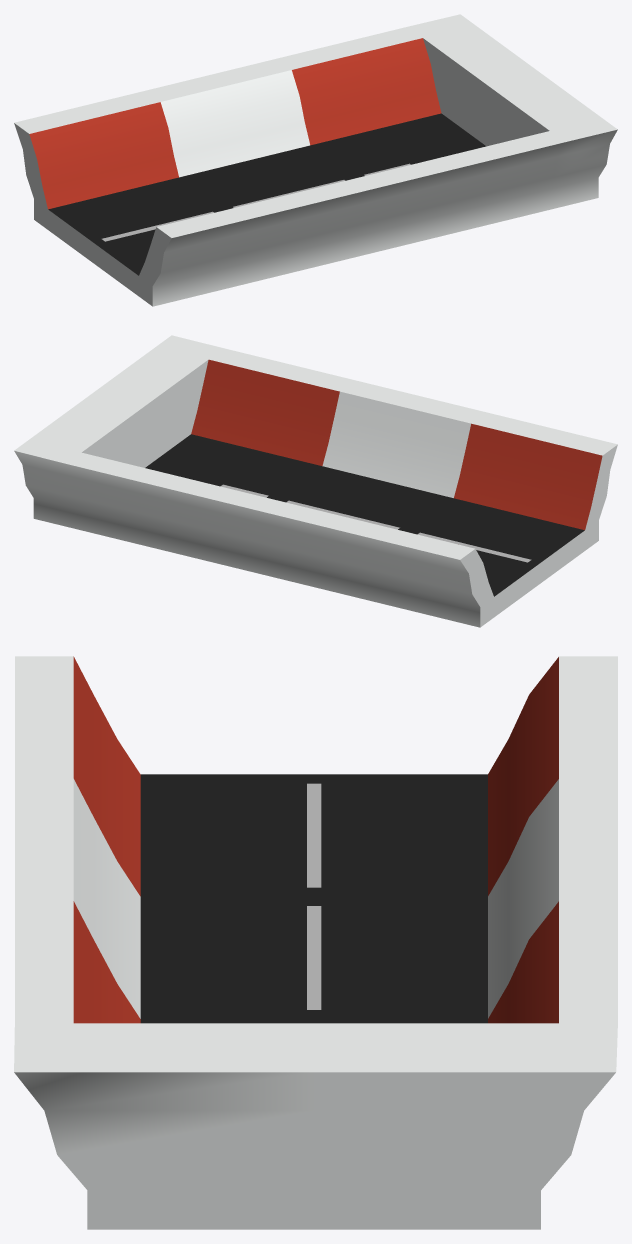
Rendered from cuoi duong red.fbx.
3 renders of one model, top to bottom at view 1: azimuth 30°, elevation 25°; view 2: azimuth 150°, elevation 25°; view 3: azimuth 270°, elevation 25°, orthographic. The views are drawn at different scales.
Visible parts, largest first — view 1: cuoi_duong; view 2: cuoi_duong; view 3: cuoi_duong.
Boxes of the visible parts, x1,y1,x2,y2 form: cuoi_duong: [14, 14, 617, 306]; cuoi_duong: [14, 335, 617, 627]; cuoi_duong: [14, 656, 617, 1229].
Bounding box in the file's own units: 34 × 6 × 20.86.
1 material, 1 textured.
